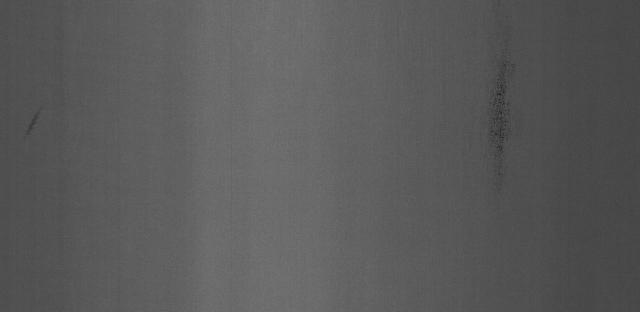inclusion: (467, 53, 540, 189)
